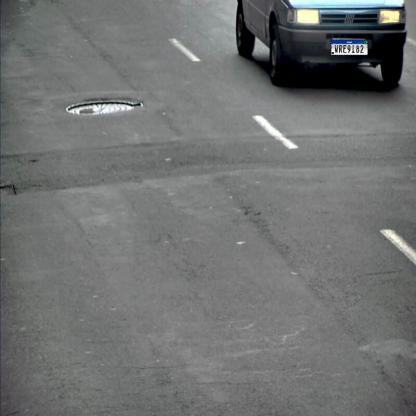PlacaM: (331, 40, 368, 56)
